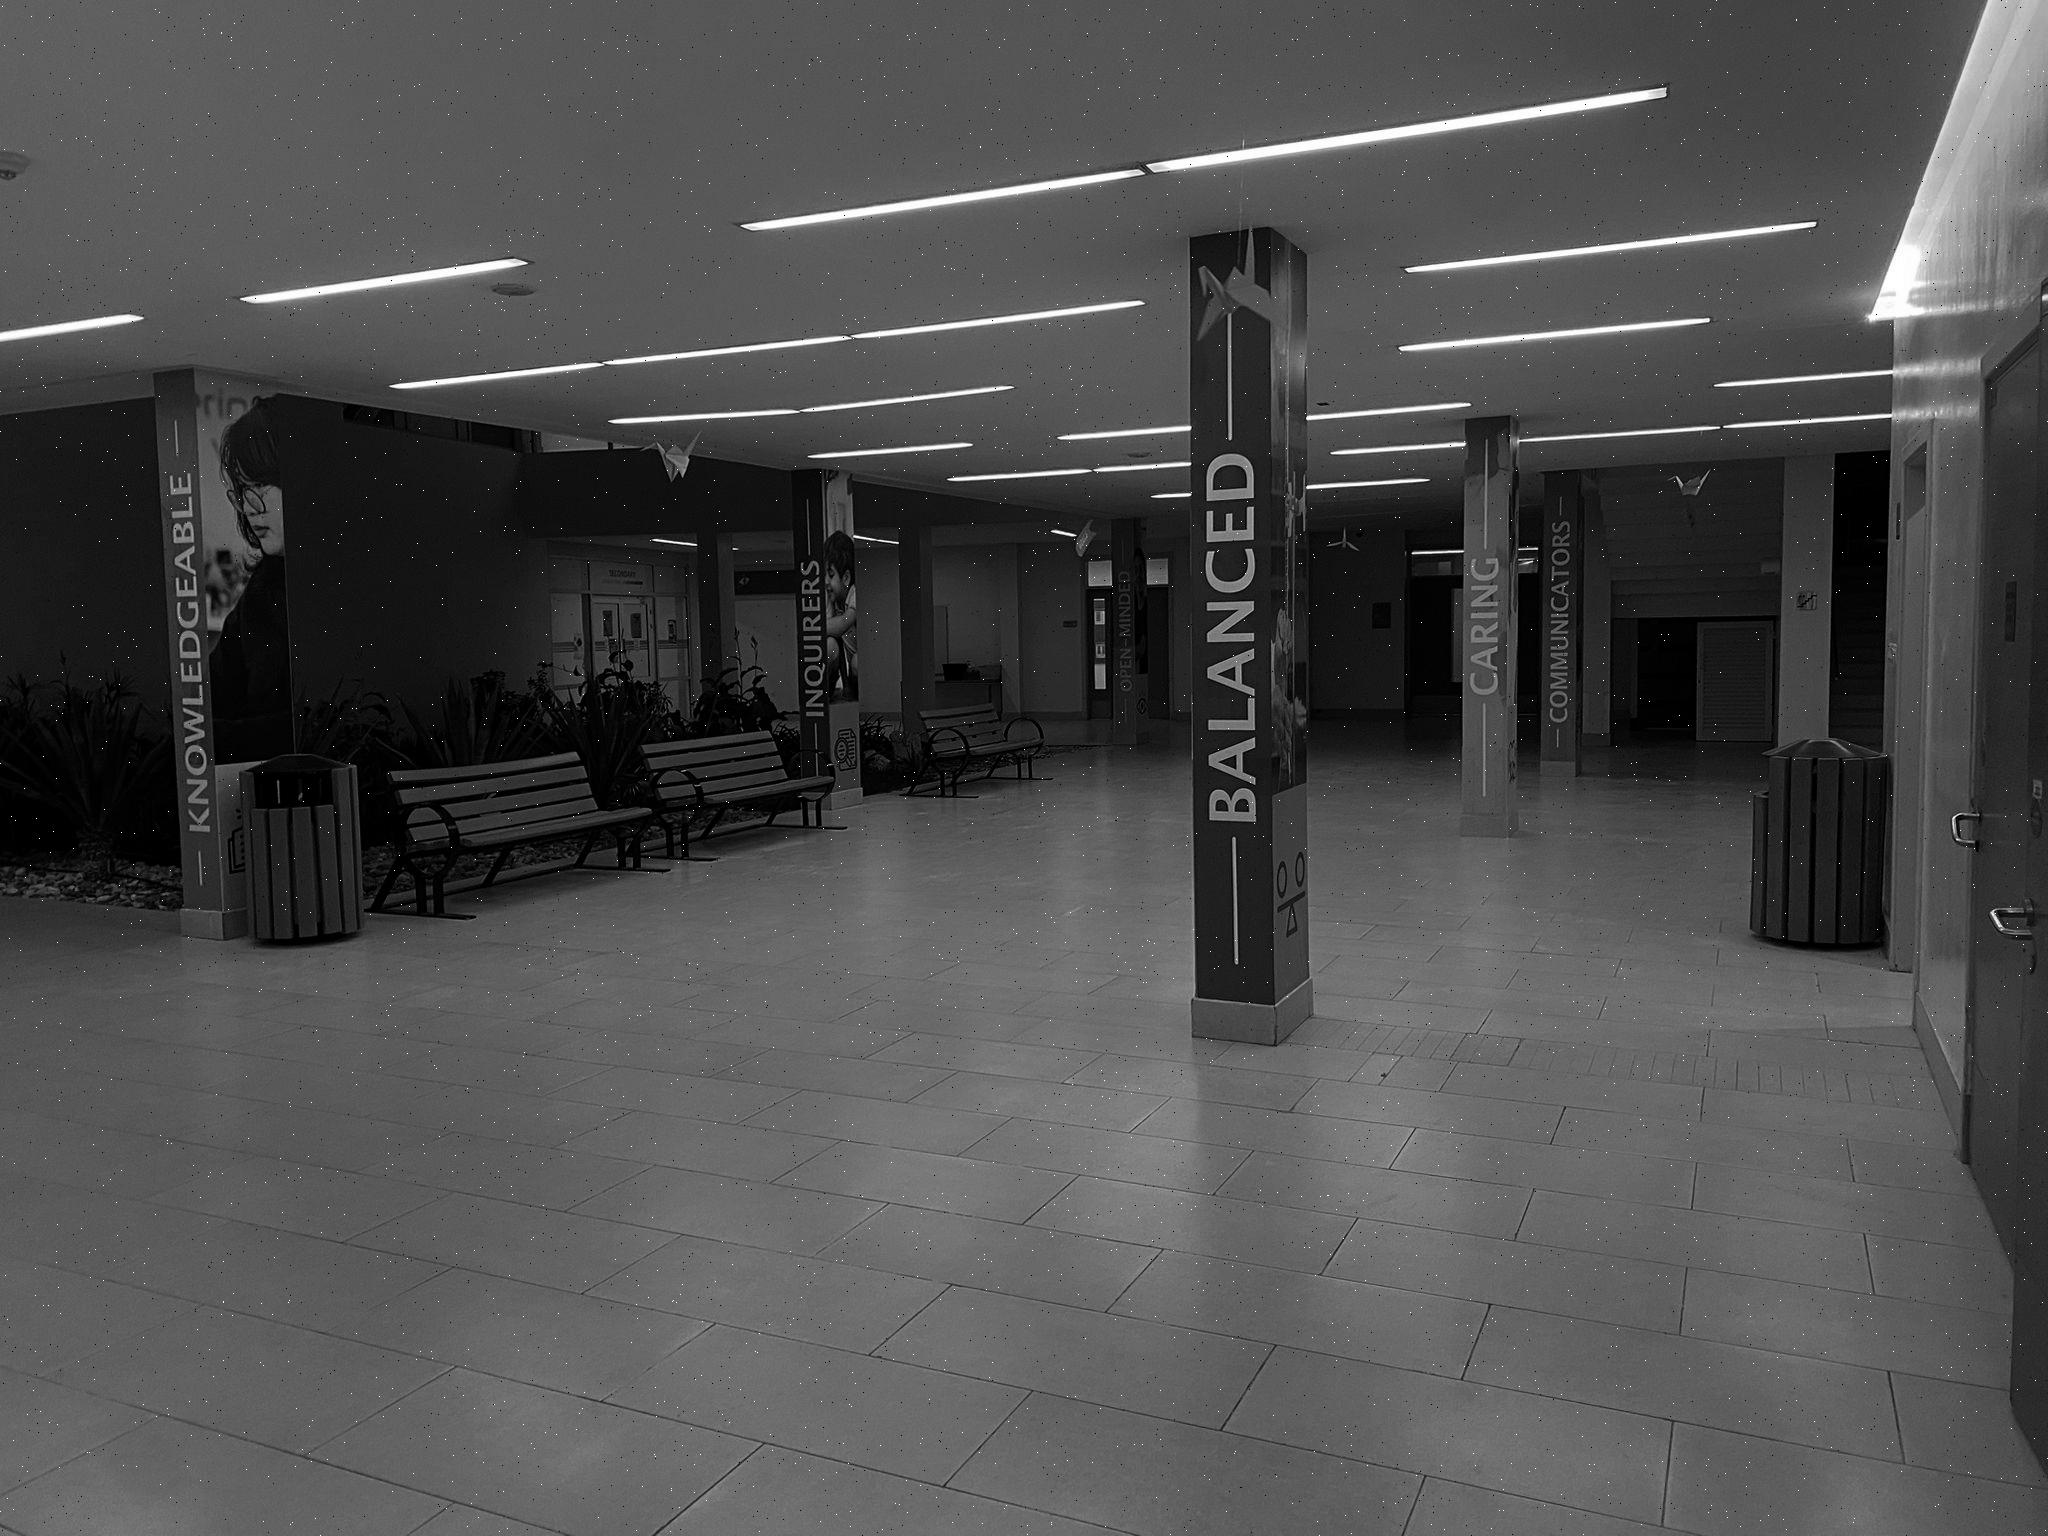Chair: (371, 752, 650, 915), (639, 729, 843, 858), (906, 702, 1043, 795)
Pillar: (1176, 227, 1311, 1042), (156, 369, 297, 912), (1459, 416, 1517, 836), (792, 470, 860, 797), (1106, 518, 1147, 744), (687, 532, 742, 684), (897, 531, 934, 724), (993, 547, 1022, 712)
Wall: (1893, 0, 2046, 1073), (284, 395, 547, 695), (0, 384, 164, 703), (934, 544, 1084, 720), (1306, 526, 1408, 721), (855, 545, 901, 715), (735, 594, 798, 708)
